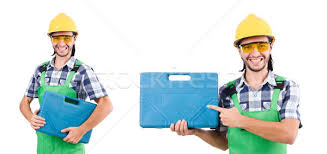Person_wearing_helmet: (228, 10, 277, 57), (43, 7, 85, 43)
